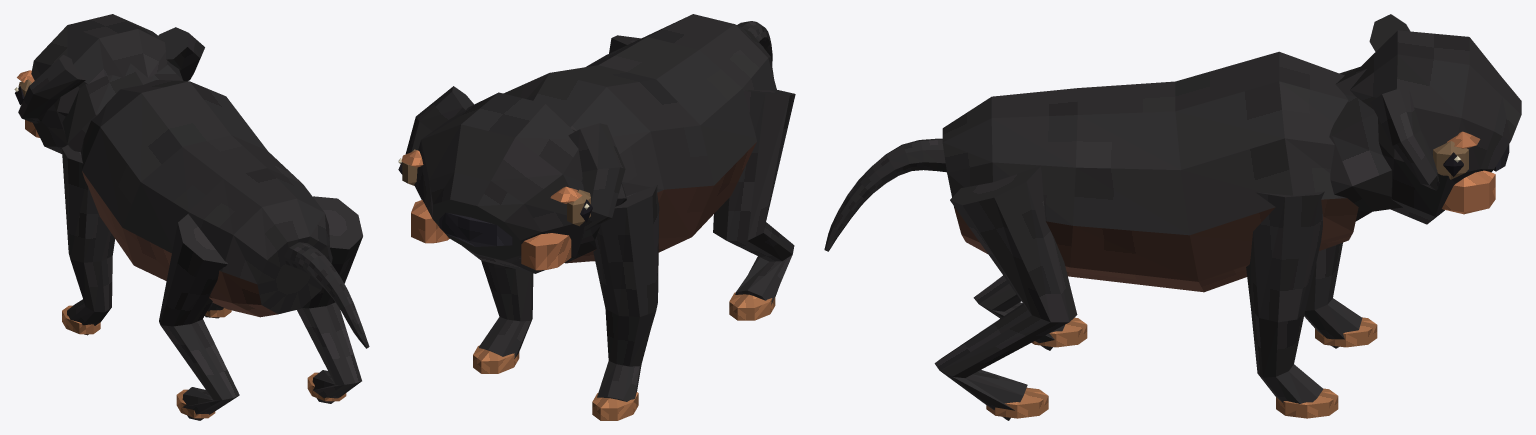
The model's file is mon_dog_rottweiler_pup.glb.
3 renders of one model, left to right at view 1: azimuth 30°, elevation 25°; view 2: azimuth 150°, elevation 25°; view 3: azimuth 270°, elevation 25°, orthographic. The views are drawn at different scales.
Parts seen in each view (by area): view 1: closed_body; view 2: closed_body; view 3: closed_body.
Part boxes in pixels (x1,y1,x2,y2): closed_body: (14, 14, 369, 420); closed_body: (398, 14, 795, 420); closed_body: (824, 14, 1521, 420).
Bounding box in the file's own units: 0.1183 × 0.1759 × 0.3246.
Materials: 1 (1 with a texture image).
